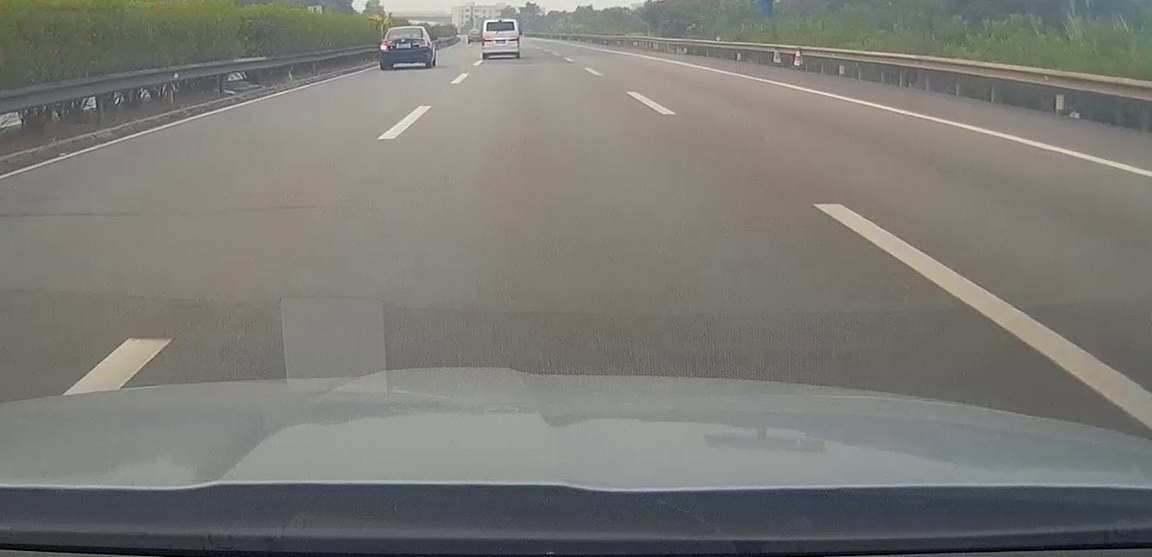L_light: (380, 42, 395, 49), (482, 38, 493, 46)
R_light: (413, 40, 429, 48), (509, 38, 520, 45)
T_light: (496, 21, 503, 23), (401, 28, 409, 29)
day-left: (379, 26, 432, 69)
day-no: (481, 18, 521, 60)
